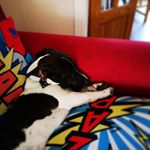puppy: (1, 45, 116, 144)
